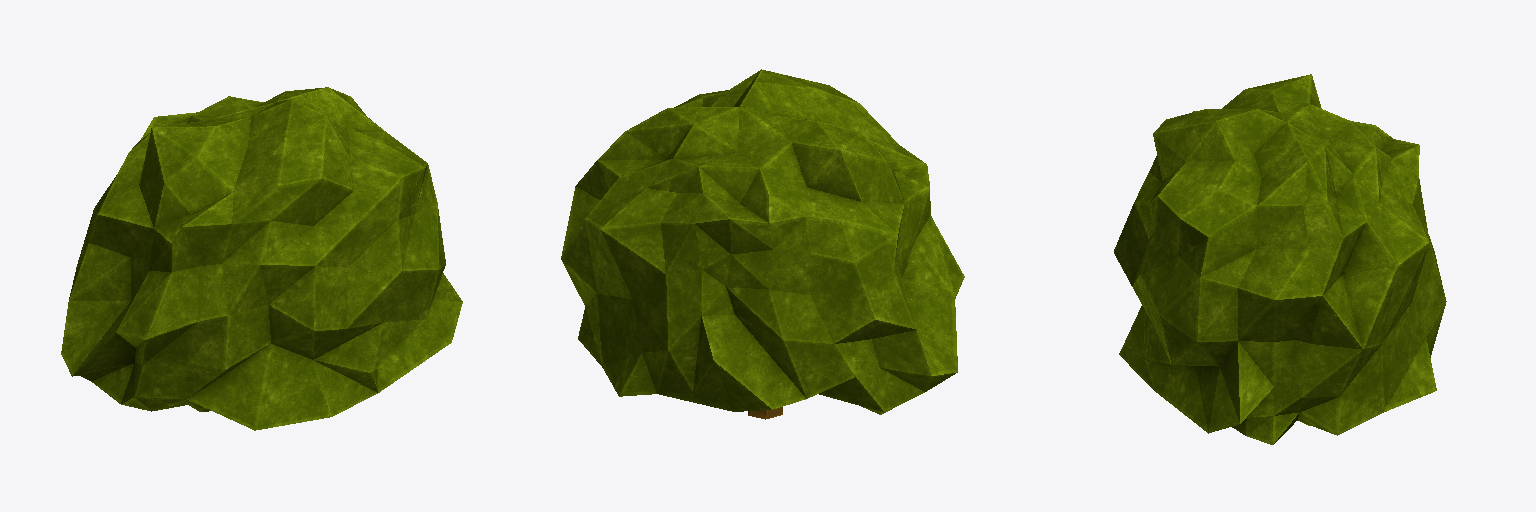
3 views of the same model, side by side, from view 1: azimuth 30°, elevation 25°; view 2: azimuth 150°, elevation 25°; view 3: azimuth 270°, elevation 25° (orthographic).
Parts seen in each view (by area): view 1: OakTree_mesh; view 2: OakTree_mesh; view 3: OakTree_mesh.
Boxes of the visible parts, box(x1,y1,x2,y2) form: OakTree_mesh: box(61, 87, 462, 430); OakTree_mesh: box(561, 69, 964, 419); OakTree_mesh: box(1114, 74, 1446, 444).
Bounding box in the file's own units: 16.1 × 13.09 × 12.42.
Materials: 1 (1 with a texture image).